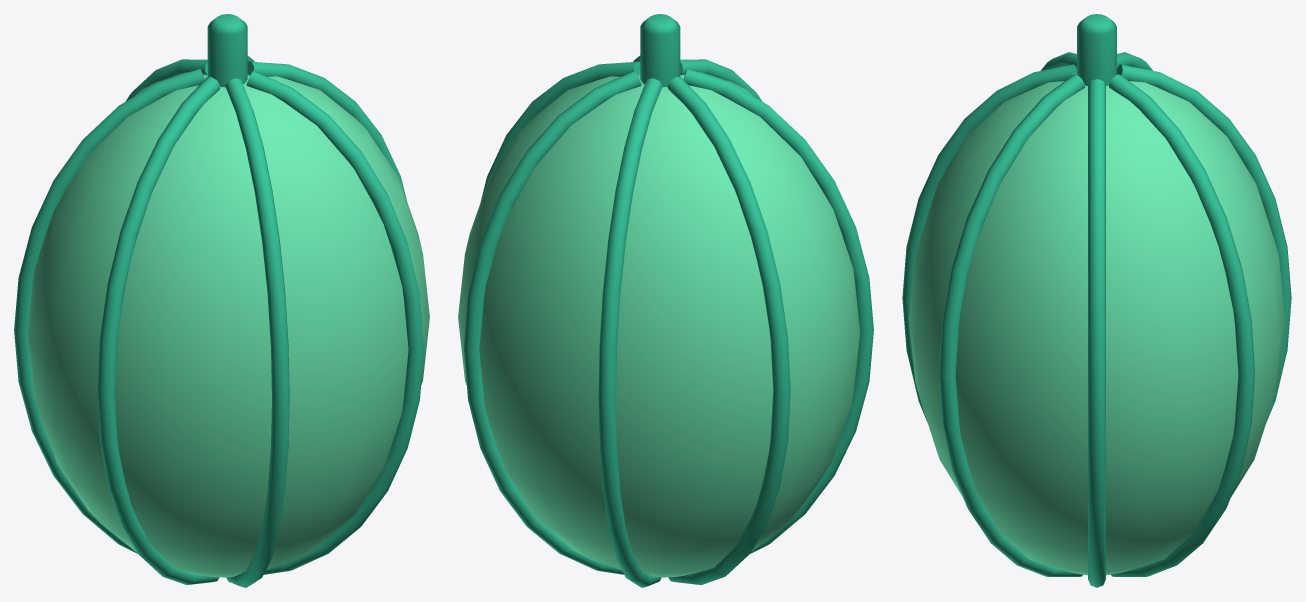
Rendered from watermelon.glb.
The picture shows the model from 3 angles, left to right: view 1: azimuth 30°, elevation 25°; view 2: azimuth 150°, elevation 25°; view 3: azimuth 270°, elevation 25°; orthographic projection.
Visible parts, largest first — view 1: watermelon; view 2: watermelon; view 3: watermelon.
Boxes of the visible parts, x1,y1,x2,y2 form: watermelon: (14, 14, 429, 587); watermelon: (458, 14, 873, 587); watermelon: (902, 14, 1291, 587).
Size of the model in its own units: 0.6942 by 1 by 0.6401.
1 material, 1 textured.
